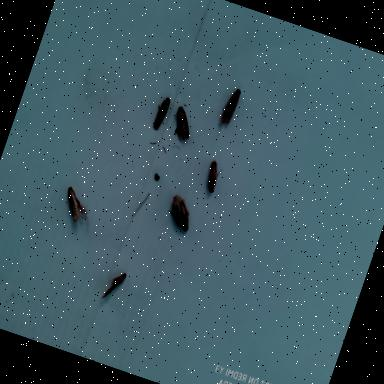pbw: (208, 80, 248, 140), (56, 184, 102, 231), (166, 102, 201, 146), (144, 90, 176, 136), (200, 156, 230, 199), (98, 266, 128, 306), (170, 196, 200, 234), (162, 192, 191, 229)
